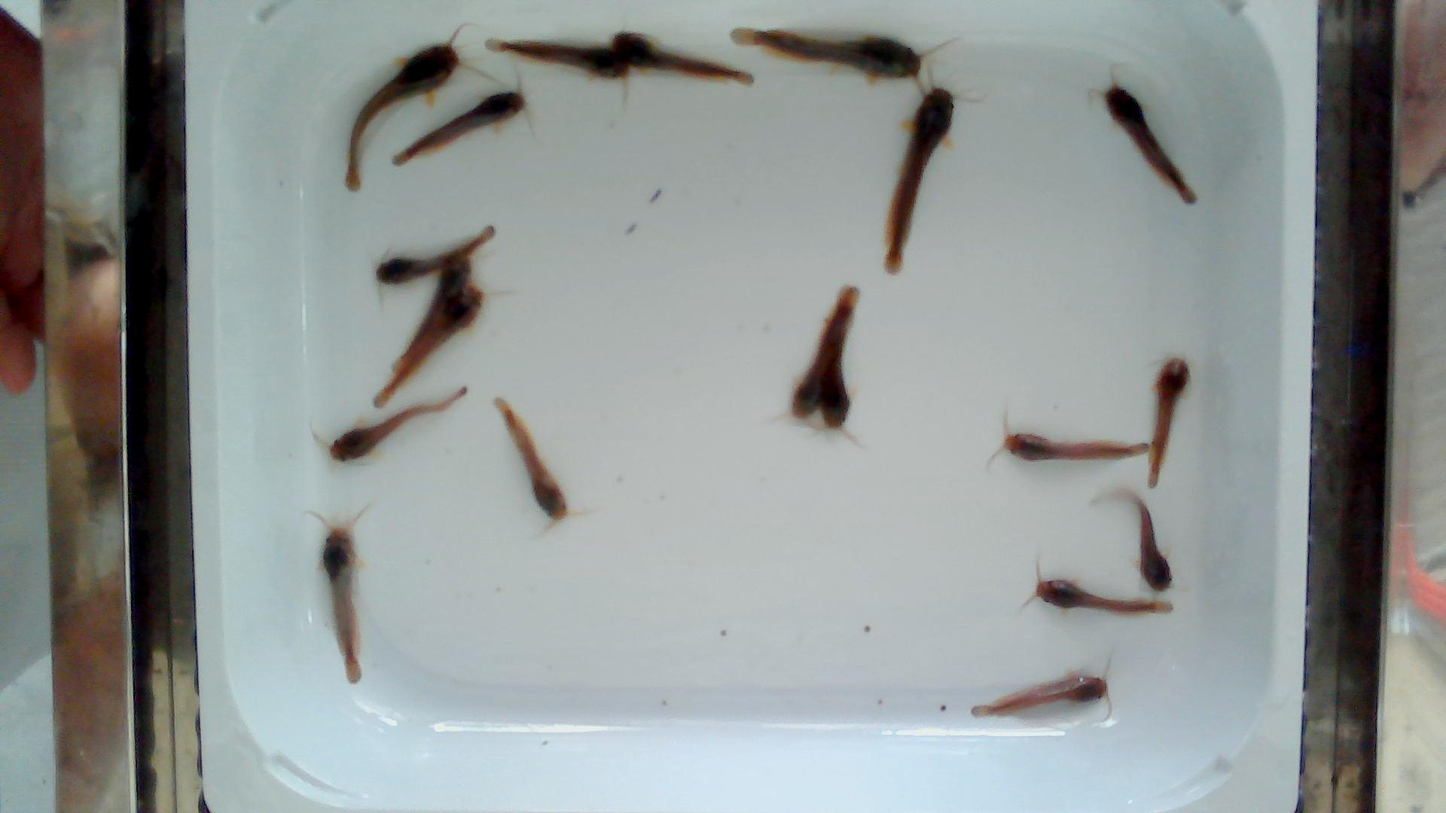lele: (346, 43, 457, 190), (372, 284, 486, 409), (884, 87, 953, 273), (1105, 84, 1196, 203), (388, 253, 473, 370), (731, 28, 921, 80), (330, 388, 466, 460), (393, 92, 524, 164), (496, 398, 569, 522), (790, 285, 858, 418), (612, 29, 755, 86), (376, 225, 494, 283), (322, 521, 362, 683), (482, 38, 633, 80), (972, 672, 1107, 715), (1149, 359, 1189, 487), (1036, 580, 1172, 614), (1002, 433, 1149, 461), (1136, 497, 1172, 591), (820, 324, 851, 428)
